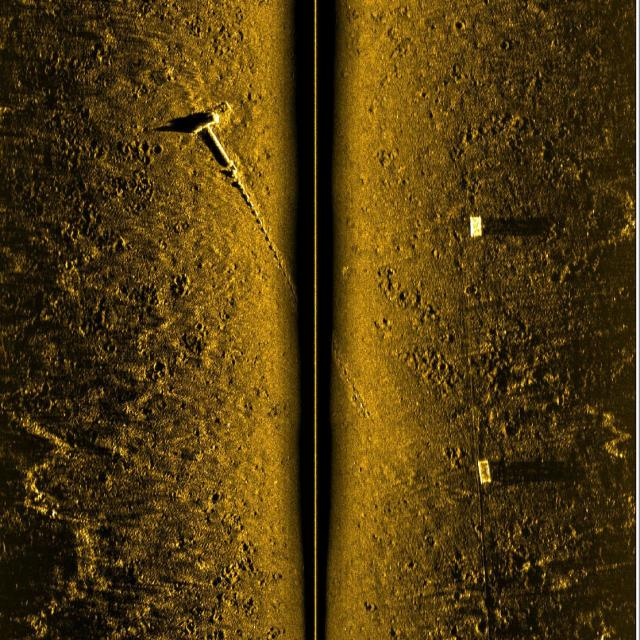other: (188, 86, 293, 302), (460, 436, 520, 508), (451, 176, 494, 272)
